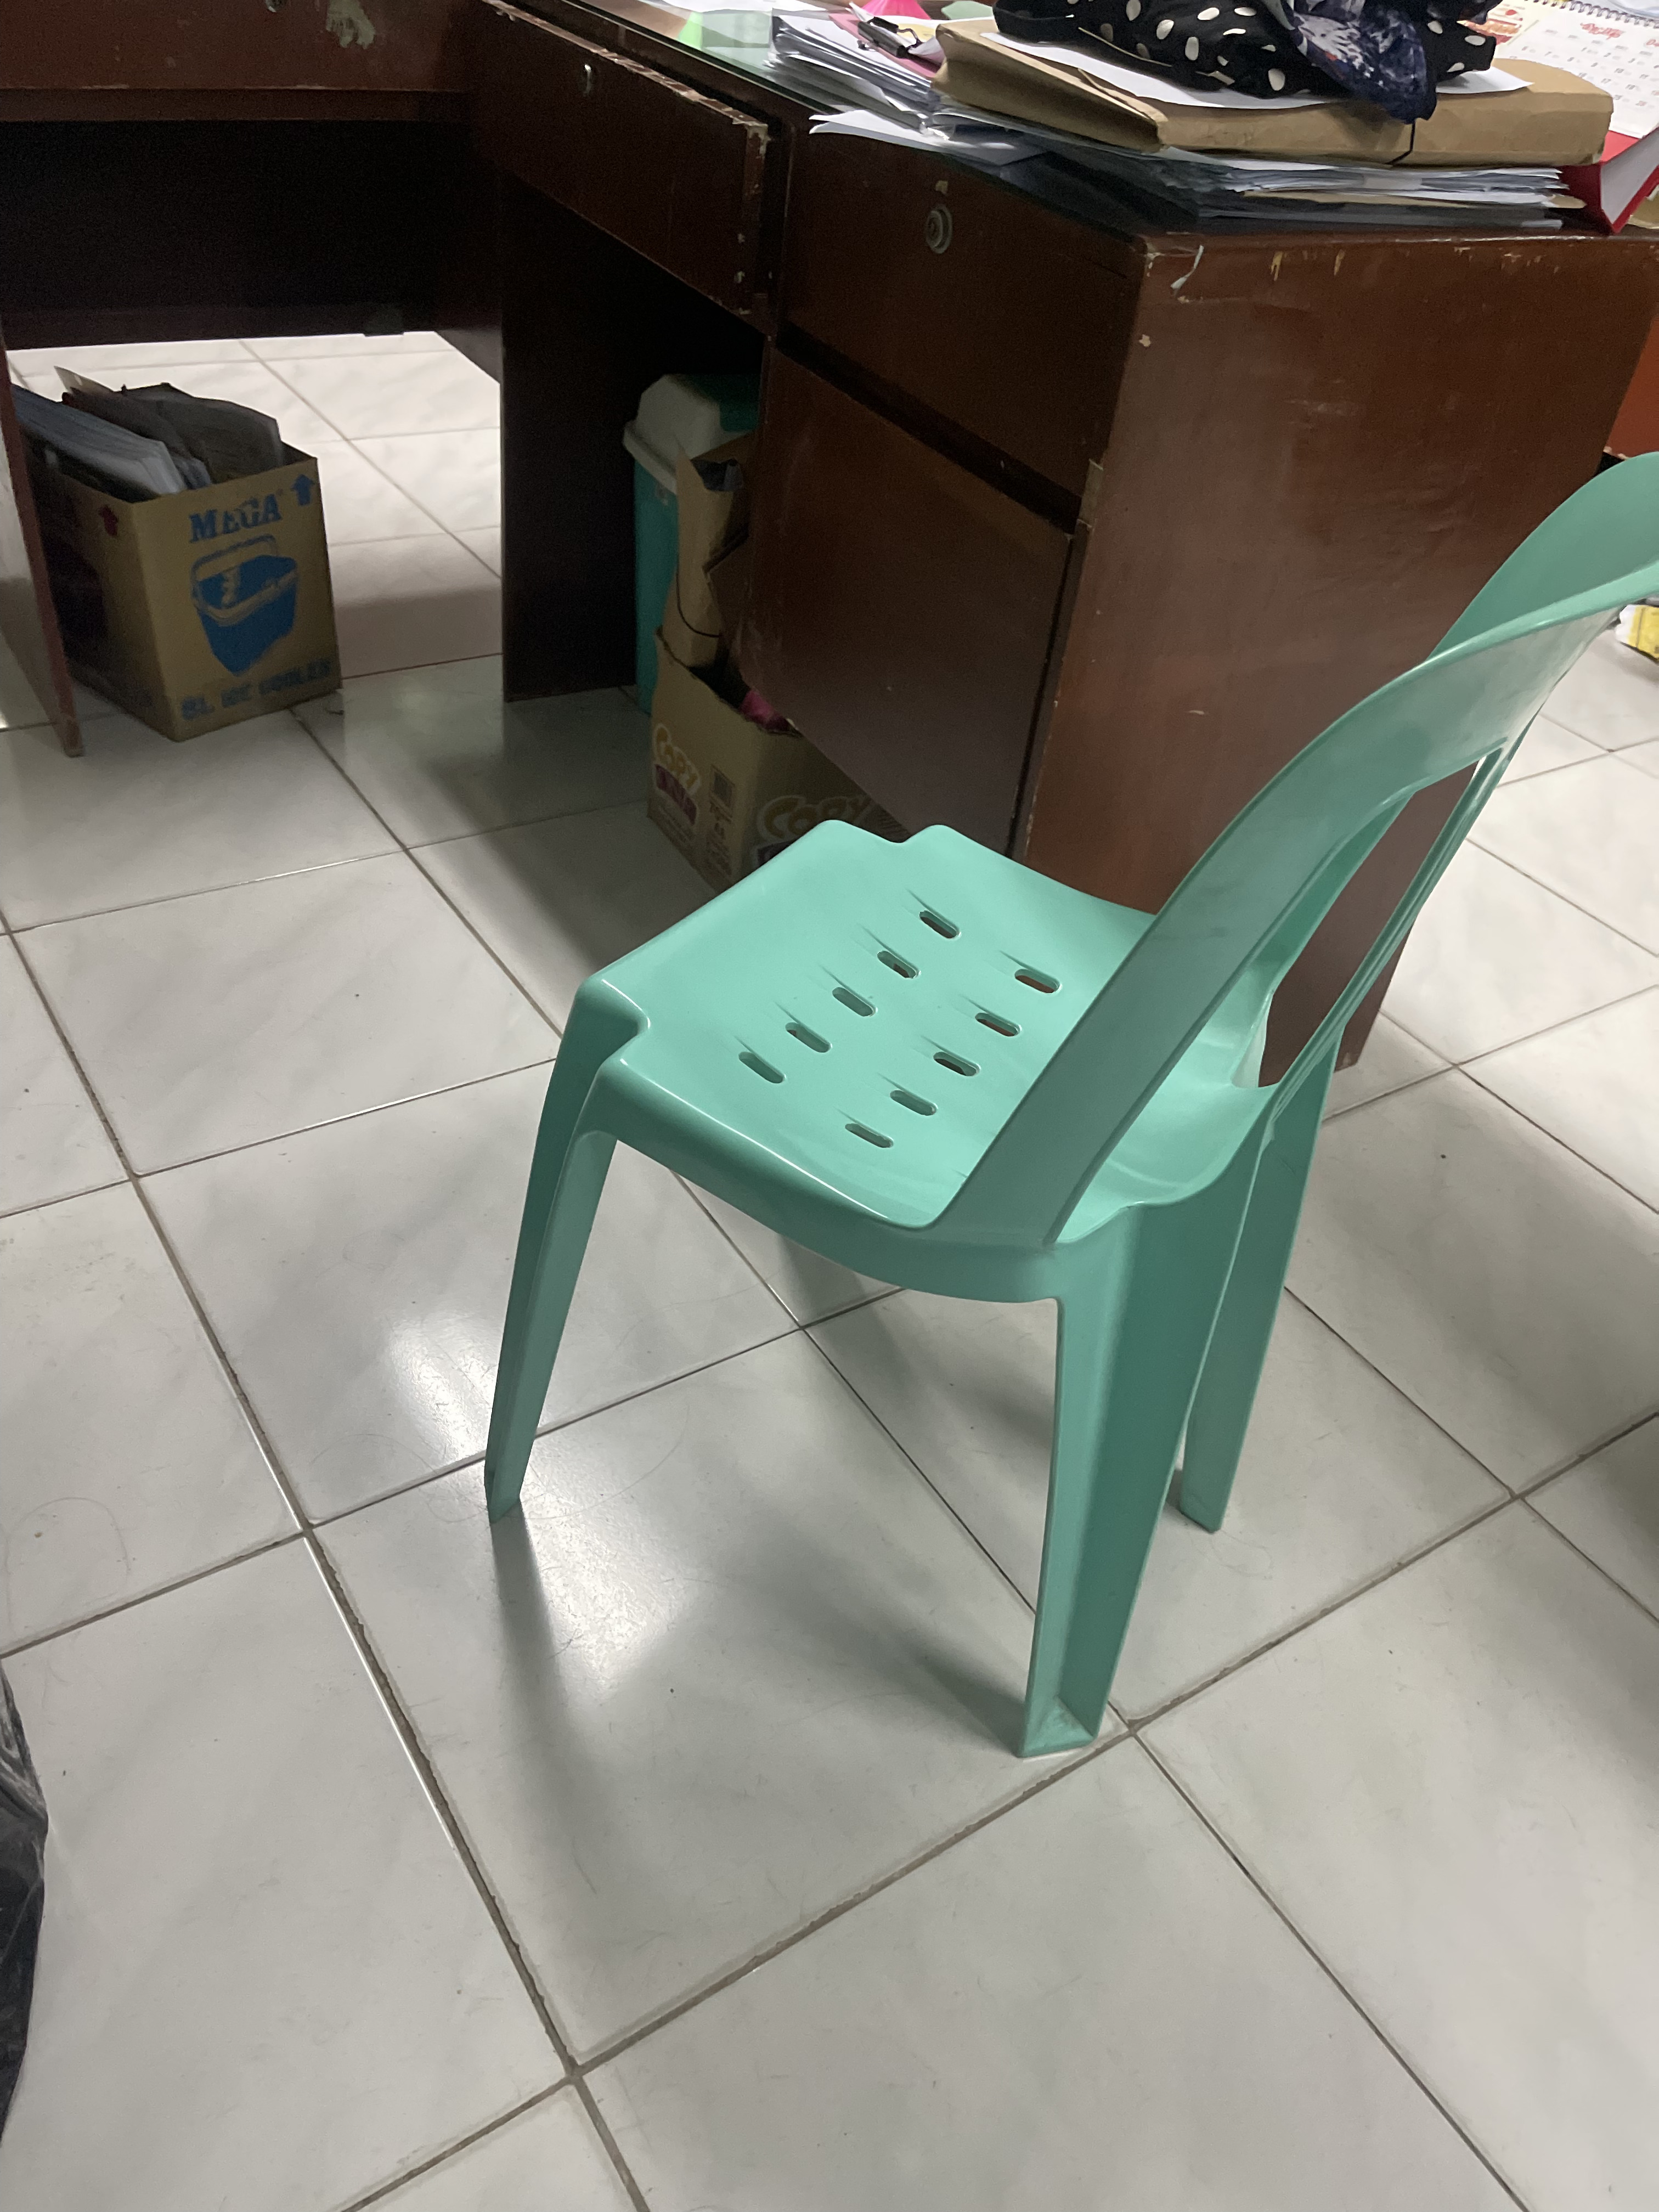chair2: (469, 413, 1659, 1771)
